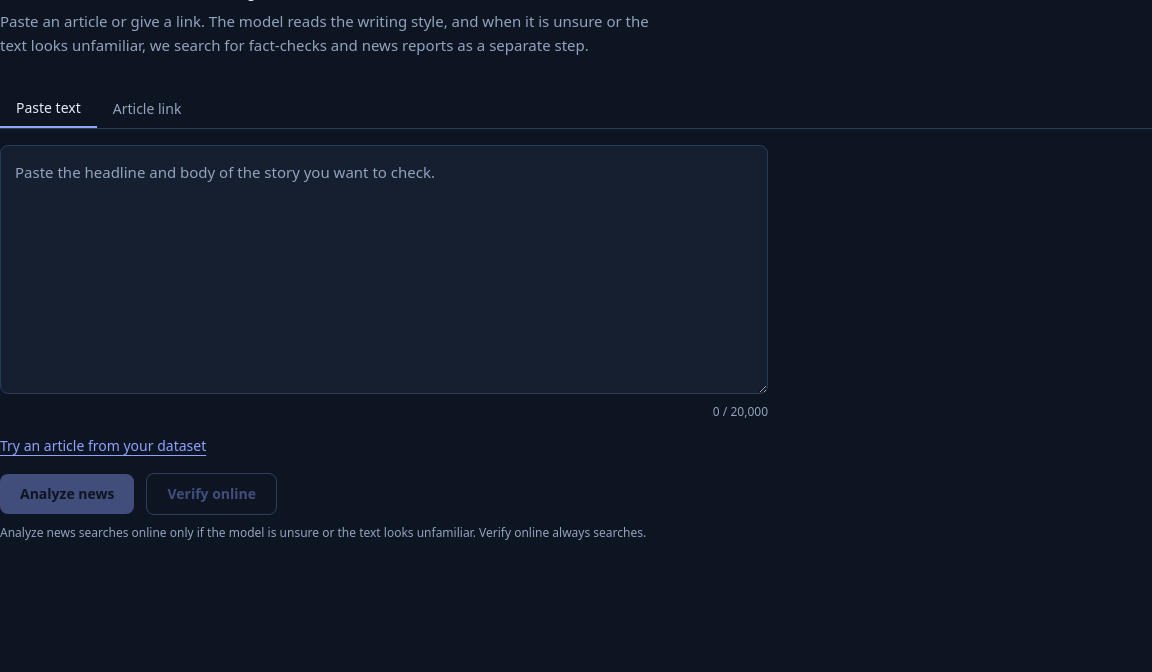
Test: Check page › works when the model is missing: no ML panel numbers, evidence still shown
Type "x" into the text box named "Article text" at (384, 270), box [0, 145, 768, 394]
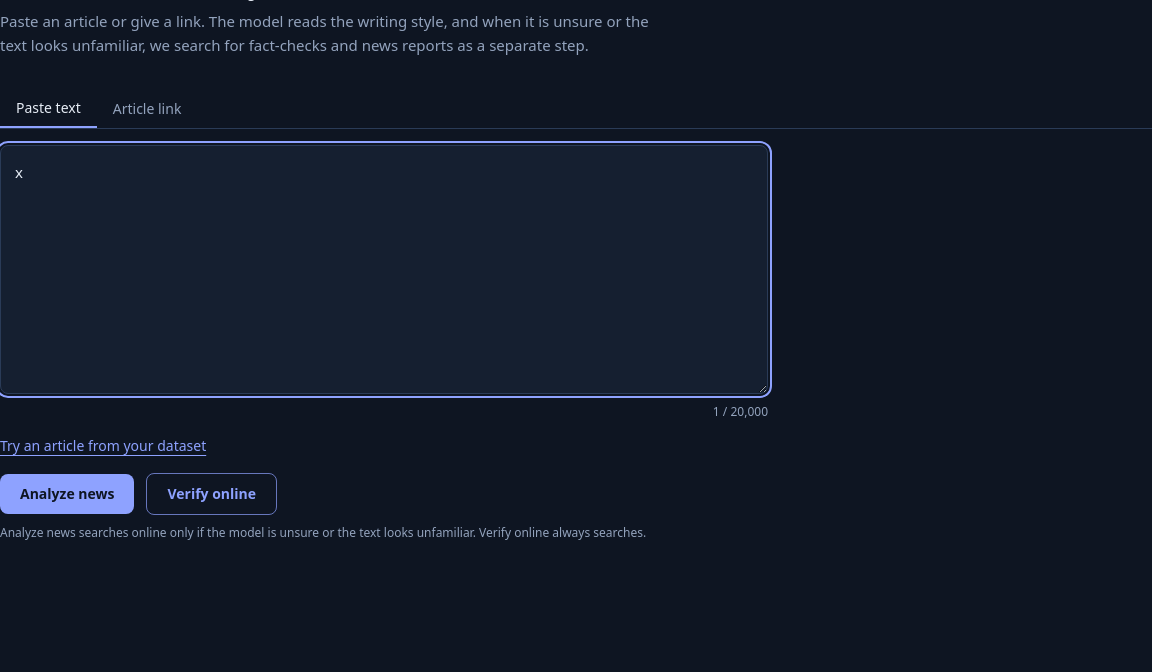
Click the button "Verify online" at (212, 494), box [146, 473, 277, 515]
(page scrolled)
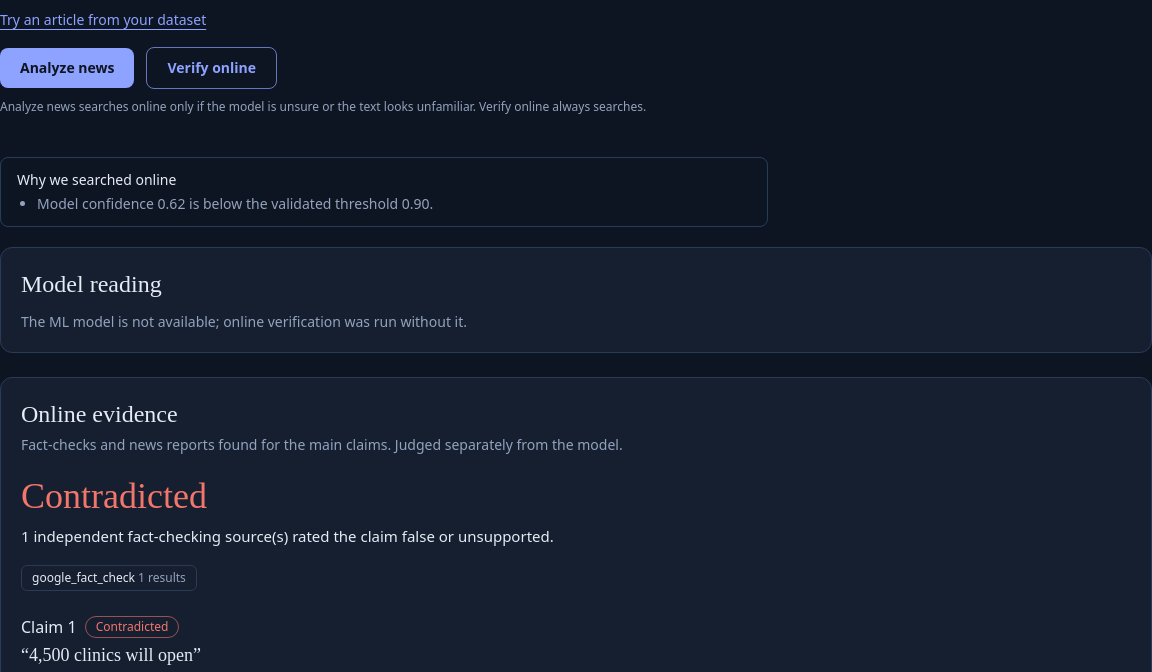
expect the text "model is not available" is shown: met, box [21, 312, 467, 331]
